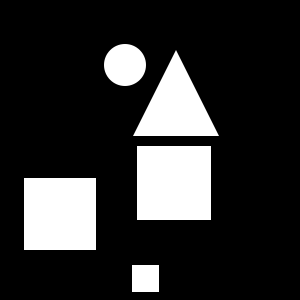circle: (137, 146, 211, 220), (24, 178, 96, 250), (132, 265, 159, 292)
rectangle: (104, 44, 146, 86)
triangle: (133, 50, 219, 136)
